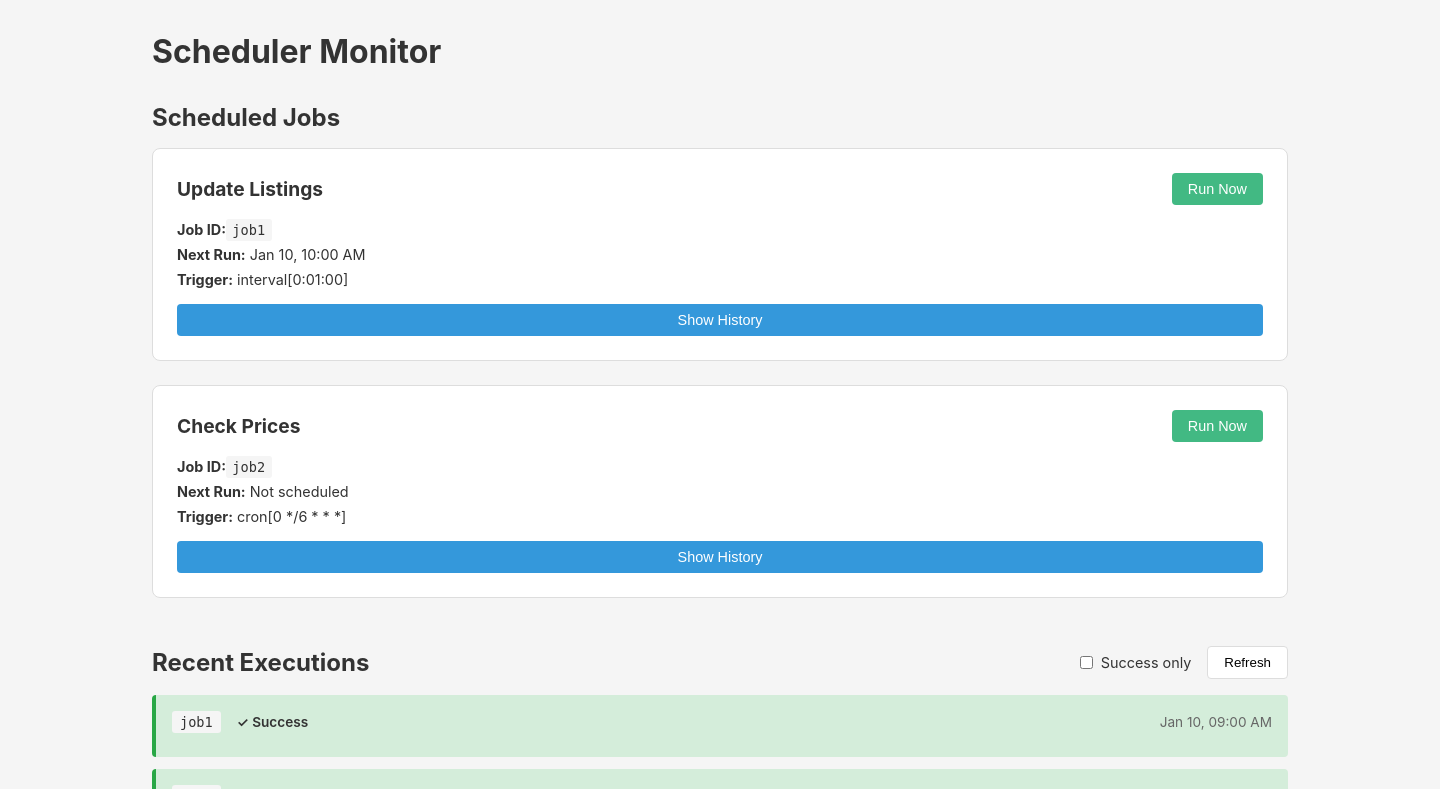
Scenario: Scheduler › toggles job history visibility
The width and height of the screenshot is (1440, 789).
Click the button with class "btn-history" below "interval[0:01:00]". click: coordinates (720, 320)
box: [177,304,1263,336]
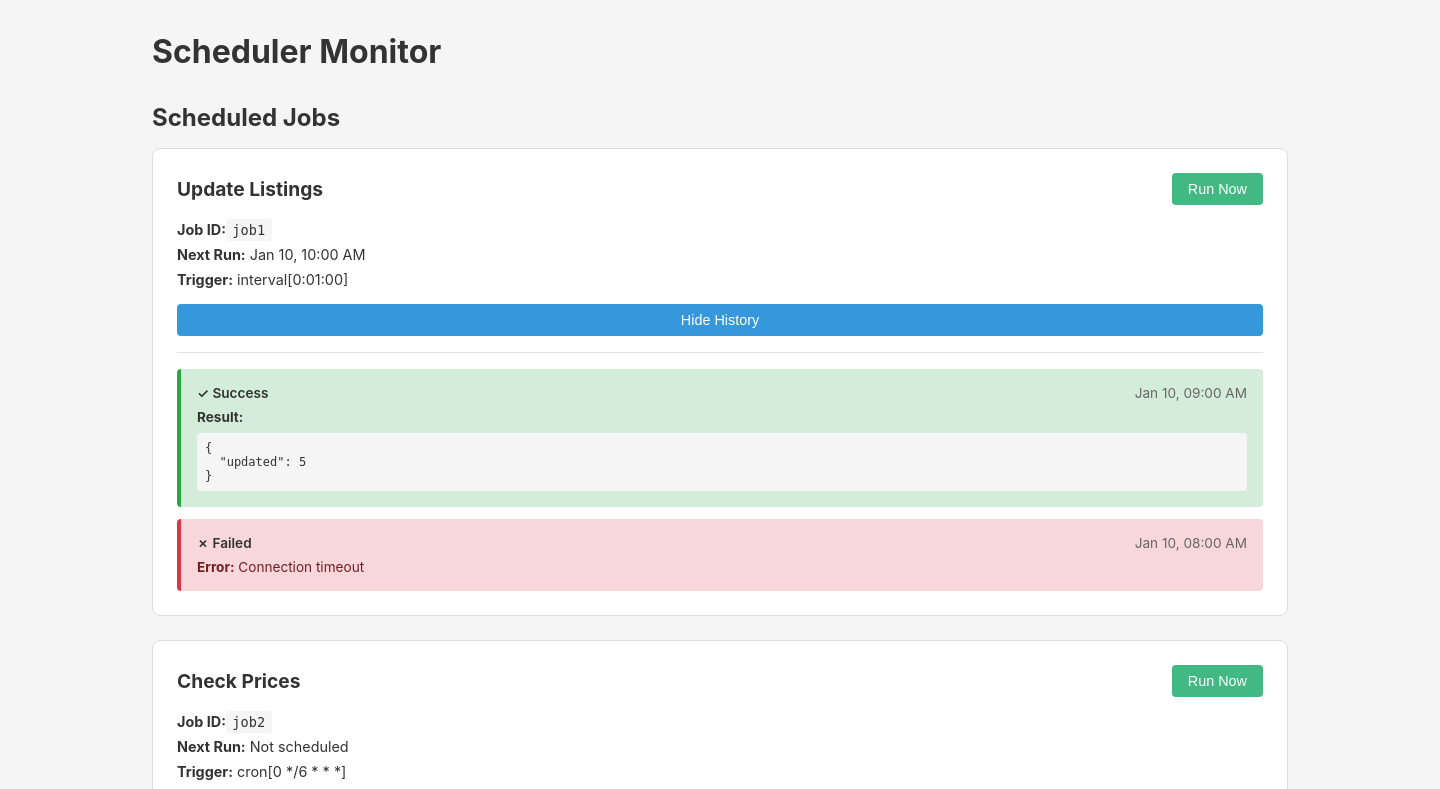
Expected: the element with class "job-history" is shown, [177,352,1263,591]
